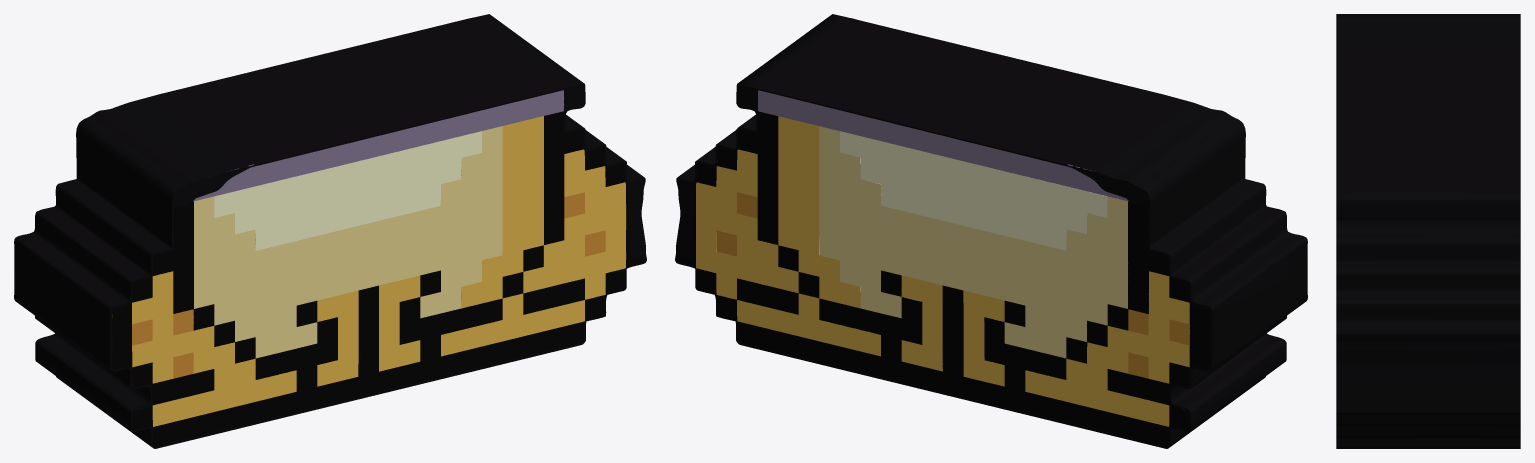
File: Toadz_3591.glb
The picture shows the model from 3 angles, left to right: view 1: azimuth 30°, elevation 25°; view 2: azimuth 150°, elevation 25°; view 3: azimuth 270°, elevation 25°; orthographic projection. The views are drawn at different scales.
Parts seen in each view (by area): view 1: Curve; view 2: Curve; view 3: Curve.
Part boxes in pixels (x1,y1,x2,y2): Curve: (14, 14, 646, 448); Curve: (675, 14, 1307, 448); Curve: (1336, 14, 1520, 448).
Size of the model in its own units: 3.25 by 1.51 by 1.
